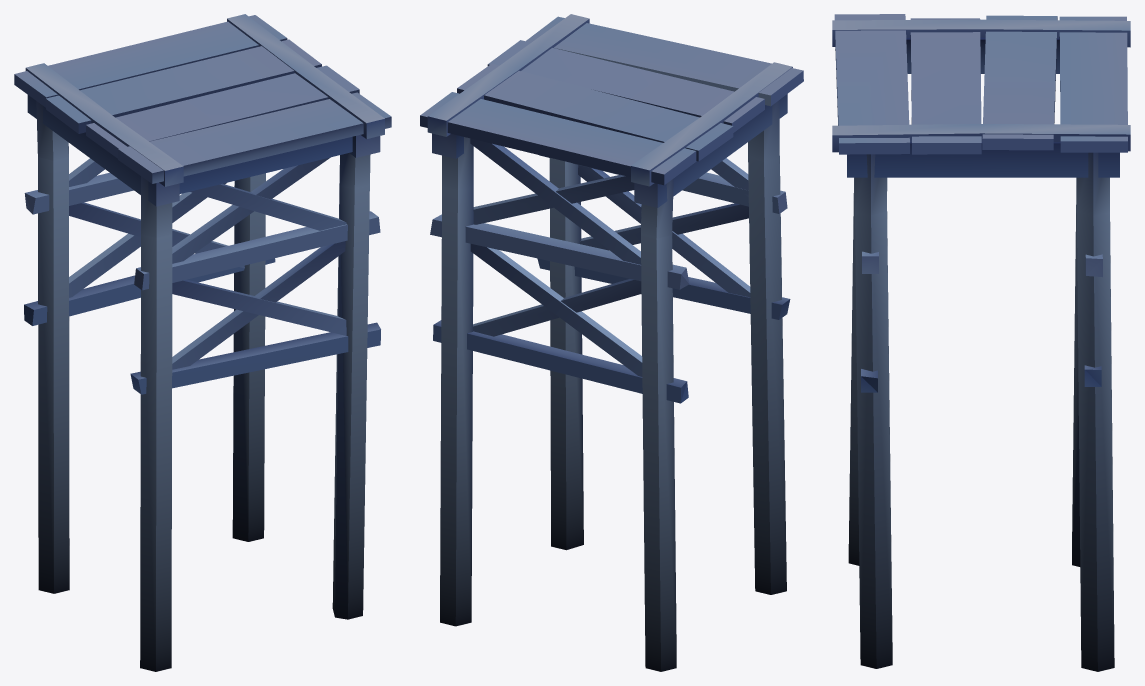
The model's file is BridgeSquare.gltf.
The picture shows the model from 3 angles, left to right: view 1: azimuth 30°, elevation 25°; view 2: azimuth 150°, elevation 25°; view 3: azimuth 270°, elevation 25°; orthographic projection. The views are drawn at different scales.
Visible parts, largest first — view 1: BridgeSquareMesh; view 2: BridgeSquareMesh; view 3: BridgeSquareMesh.
Boxes of the visible parts, x1,y1,x2,y2 form: BridgeSquareMesh: [14, 14, 391, 671]; BridgeSquareMesh: [420, 14, 803, 671]; BridgeSquareMesh: [832, 14, 1130, 671].
Bounding box in the file's own units: 5.15 × 10.02 × 5.05.
